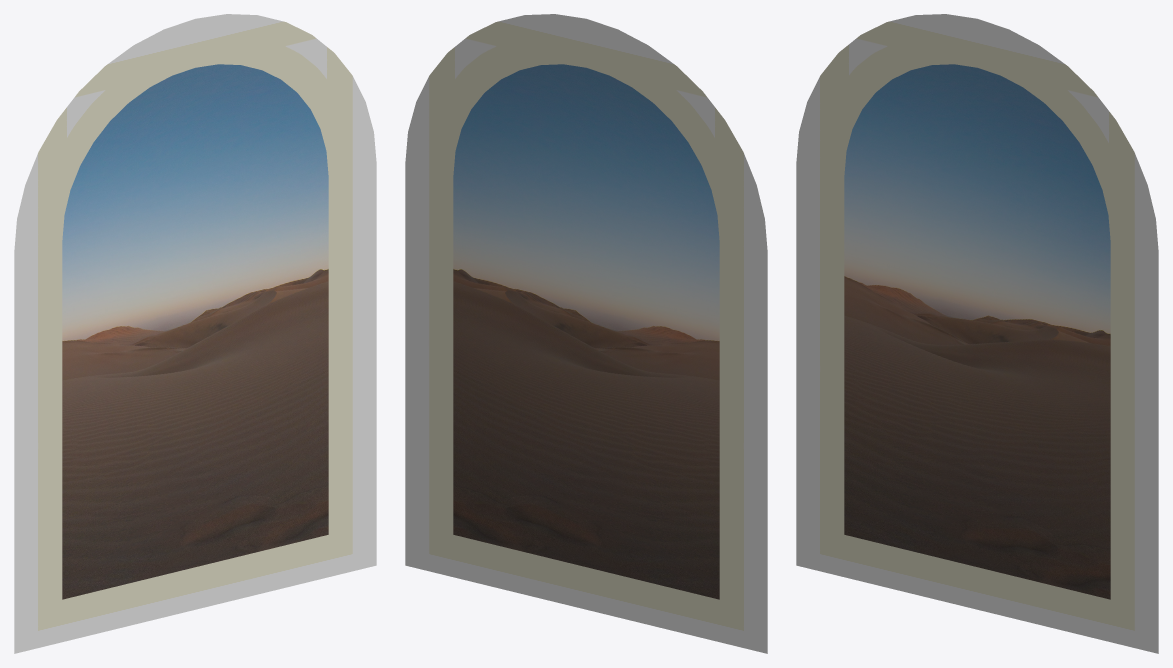
File: door_desert.glb
The picture shows the model from 3 angles, left to right: view 1: azimuth 30°, elevation 25°; view 2: azimuth 150°, elevation 25°; view 3: azimuth 330°, elevation 25°; orthographic projection.
Visible parts, largest first — view 1: door_desert, door_glow; view 2: door_desert, door_glow; view 3: door_desert, door_glow.
Part boxes in pixels (bbox=[...]): door_desert: bbox=[62, 64, 328, 599]; door_glow: bbox=[14, 14, 376, 653]; door_desert: bbox=[453, 64, 719, 599]; door_glow: bbox=[405, 14, 767, 653]; door_desert: bbox=[844, 64, 1110, 599]; door_glow: bbox=[796, 14, 1158, 653].
Size of the model in its own units: 0.9 by 1.4 by 0.
Materials: 2 (2 with a texture image).
